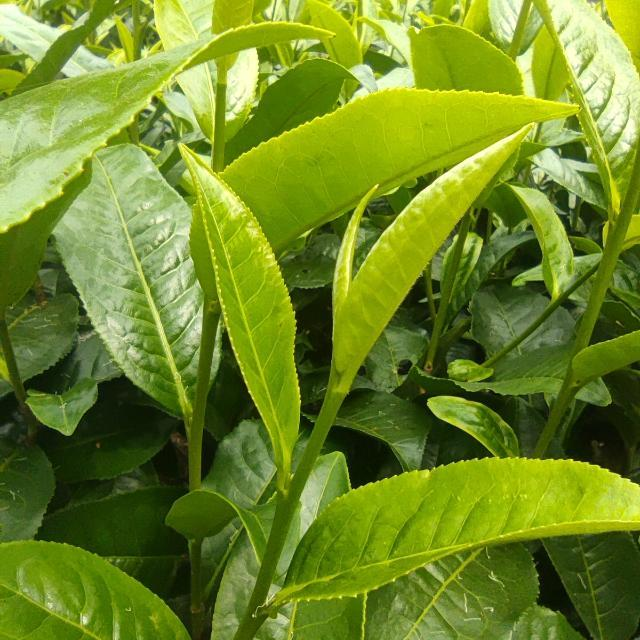Stem: (268, 502, 295, 548), (215, 84, 226, 111)
